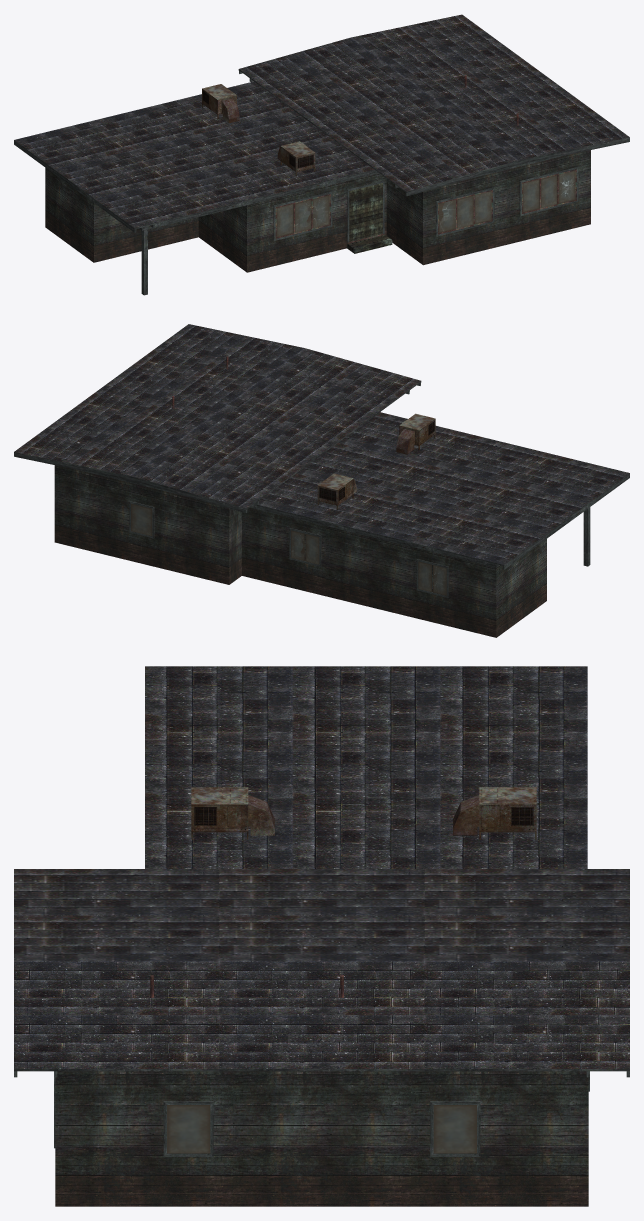
File: GoodspringsHome01.obj
The picture shows the model from 3 angles, top to bottom: view 1: azimuth 30°, elevation 25°; view 2: azimuth 150°, elevation 25°; view 3: azimuth 270°, elevation 25°; orthographic projection. The views are drawn at different scales.
Parts seen in each view (by area): view 1: __PrenotatoPerDuplicare_3, __PrenotatoPerDuplicare_1; view 2: __PrenotatoPerDuplicare_3, __PrenotatoPerDuplicare_1; view 3: __PrenotatoPerDuplicare_3, __PrenotatoPerDuplicare_1.
Boxes of the visible parts, x1=… form: __PrenotatoPerDuplicare_3: x1=14, y1=14, x2=629, y2=295; __PrenotatoPerDuplicare_1: x1=276, y1=170, x2=575, y2=237; __PrenotatoPerDuplicare_3: x1=14, y1=324, x2=629, y2=637; __PrenotatoPerDuplicare_1: x1=131, y1=503, x2=446, y2=595; __PrenotatoPerDuplicare_3: x1=14, y1=666, x2=629, y2=1206; __PrenotatoPerDuplicare_1: x1=167, y1=1105, x2=476, y2=1153.
Size of the model in its own units: 1403 by 300 by 887.
